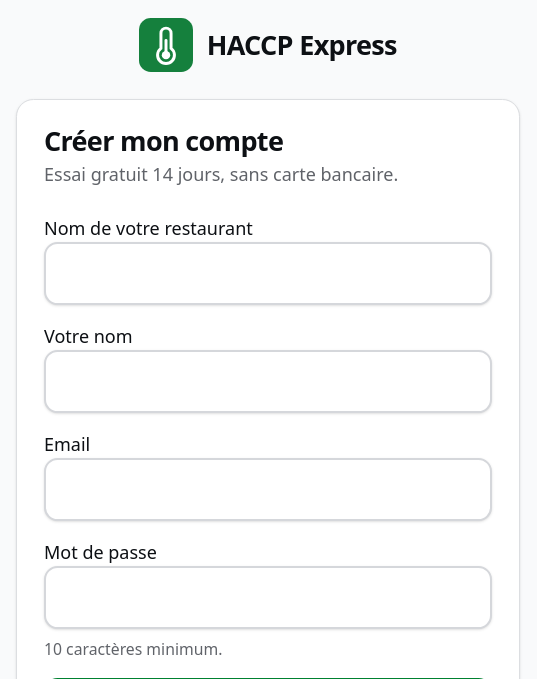
RegisterPage › affiche les erreurs de validation sous les champs concernés
The width and height of the screenshot is (537, 679).
Type "Pizzeria Da Marco" into the field labelled "Nom de votre restaurant" at {"x": 268, "y": 273}, box [44, 242, 492, 305]
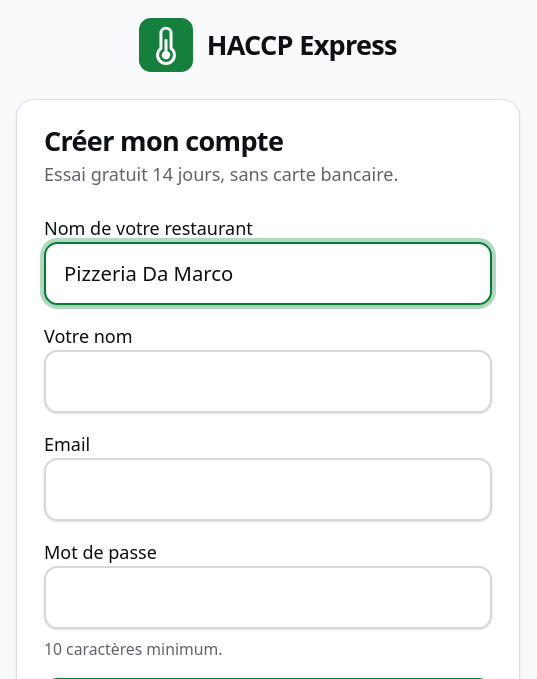
Type "Marco Rossi" into the field labelled "Votre nom" at {"x": 268, "y": 381}, box [44, 350, 492, 413]
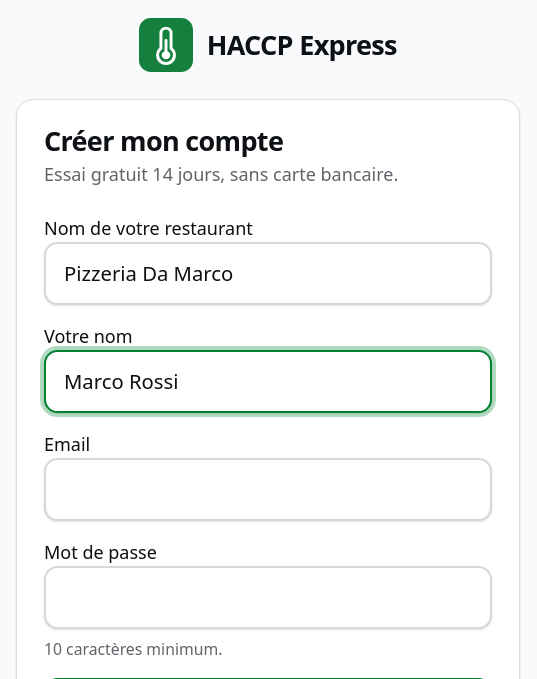
Type "marco@pizzeria.fr" into the field labelled "Email" at {"x": 268, "y": 489}, box [44, 458, 492, 521]
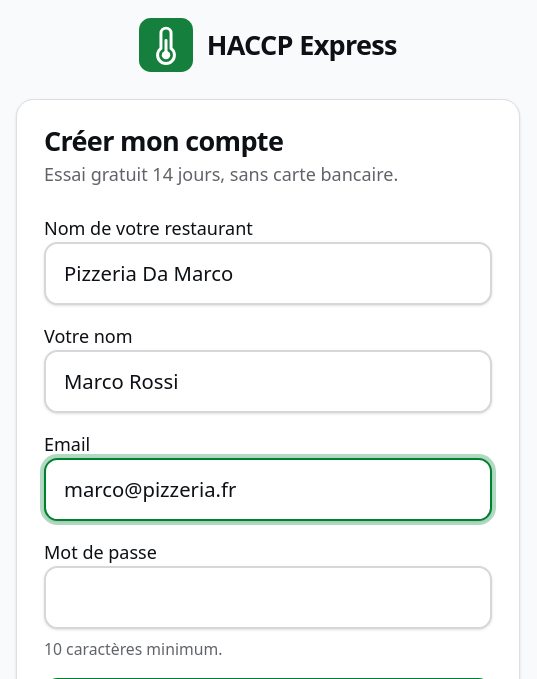
Type "Pizza-Napoli-2026" into the password field labelled "Mot de passe" at {"x": 268, "y": 597}, box [44, 566, 492, 629]
(page scrolled)
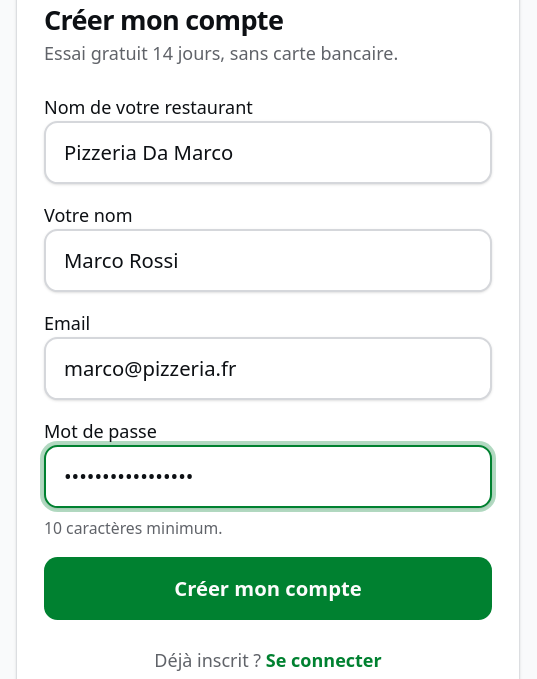
Click the button "Créer mon compte" at {"x": 268, "y": 589}, box [44, 557, 492, 620]
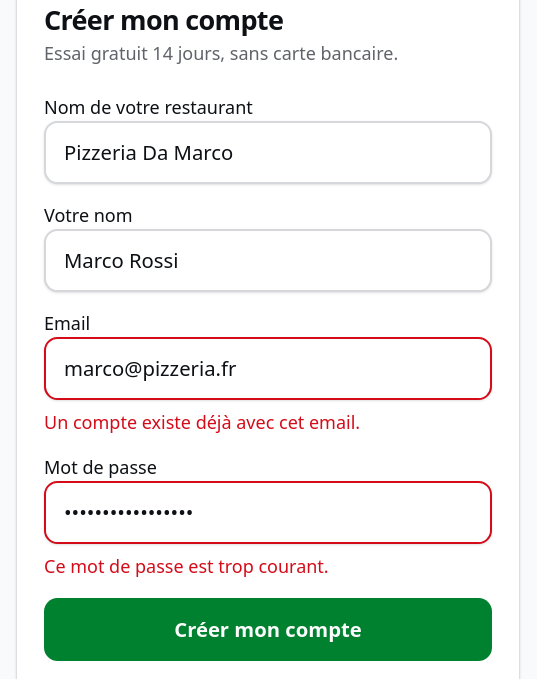
Expected: the text "Un compte existe déjà avec cet email." is shown, [44, 410, 360, 434]
Expected: the text "Ce mot de passe est trop courant." is shown, [44, 554, 329, 578]
